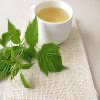Raspberry leaf: (37, 42, 71, 77), (25, 12, 39, 48), (7, 17, 22, 44)
